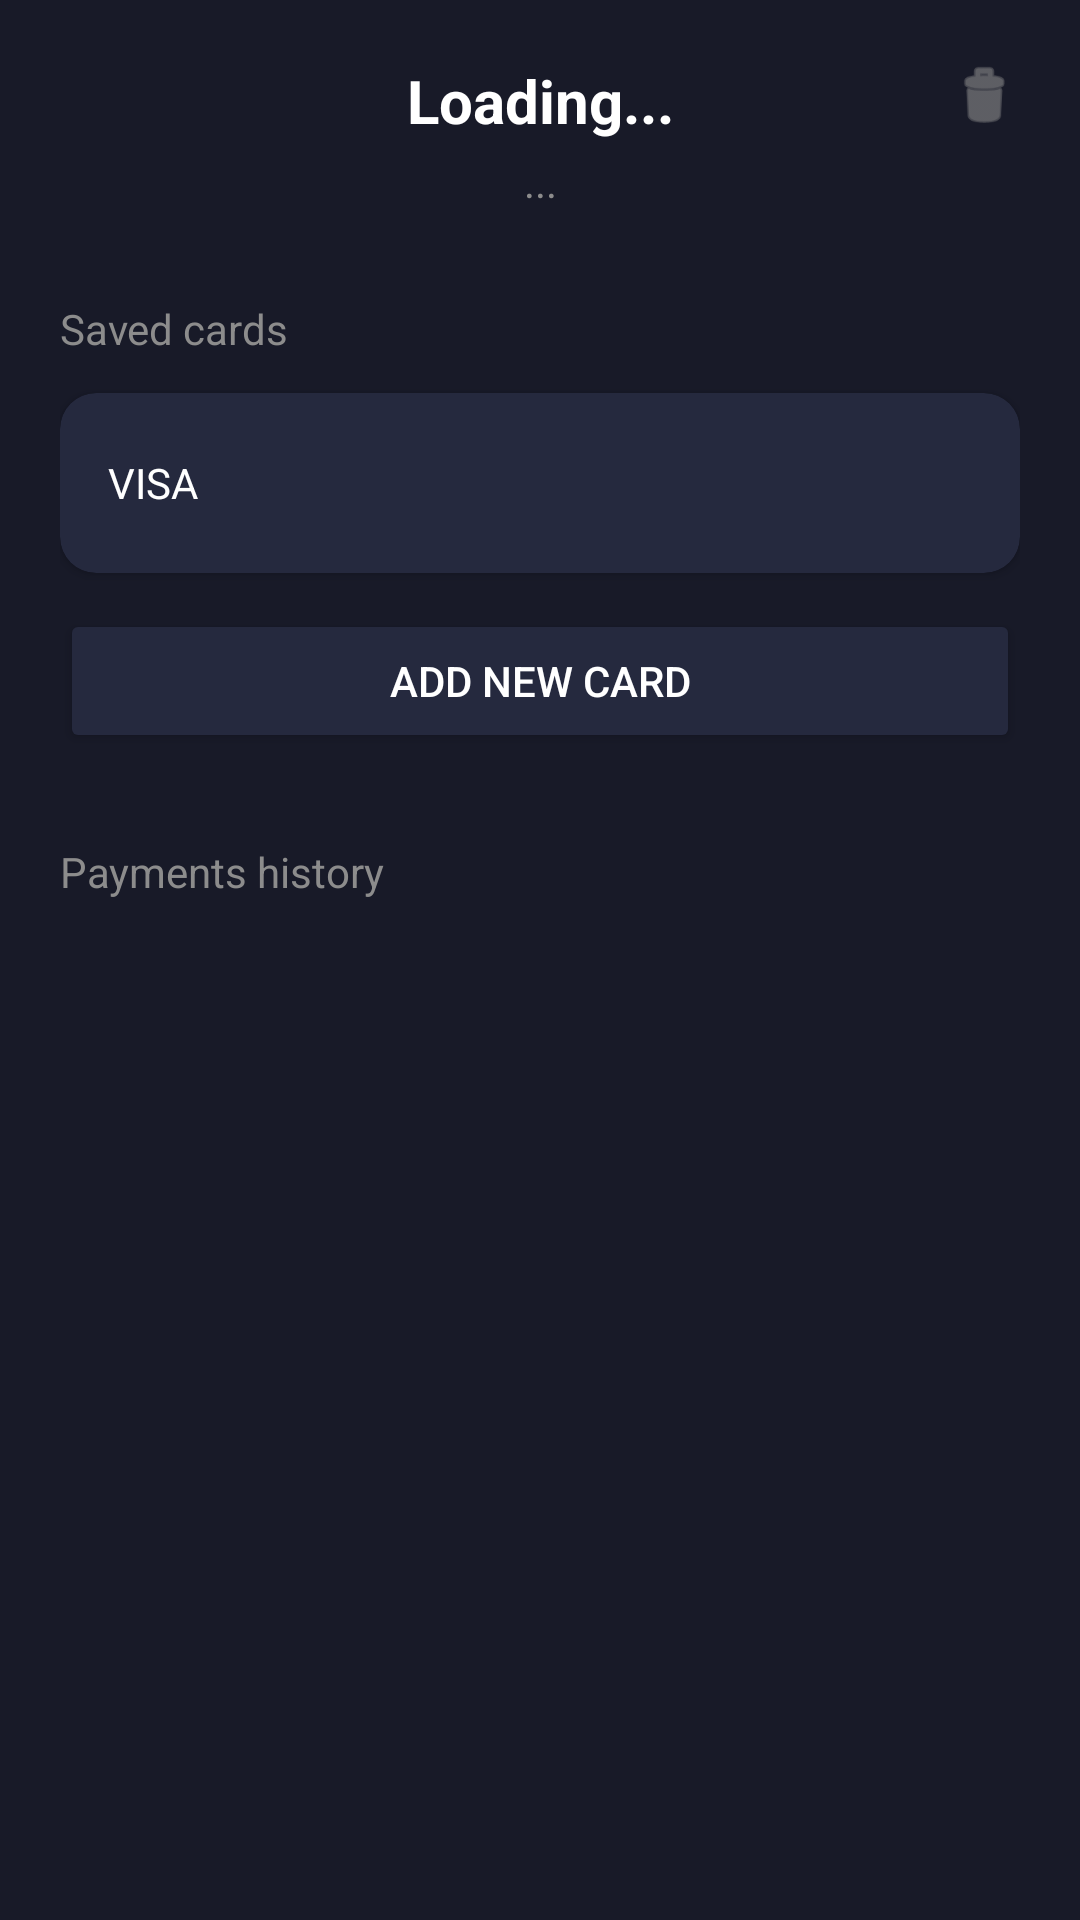

Icons on this 1080px x 1920px Android screen, each with its box as (x1, y1, x2, y2):
delete: (964, 67, 1004, 123)
